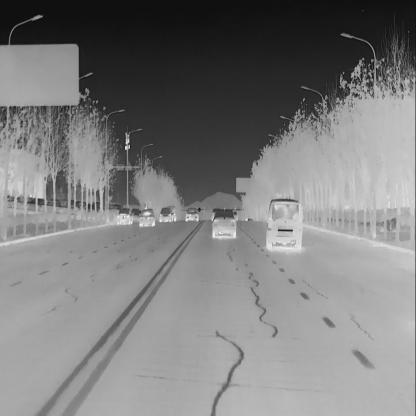car: (266, 197, 303, 252), (211, 208, 236, 239), (139, 209, 155, 227), (117, 207, 132, 224), (158, 207, 172, 223), (185, 207, 199, 222), (130, 209, 142, 223), (210, 207, 221, 222), (231, 210, 238, 221)
truck: (167, 205, 177, 222)
